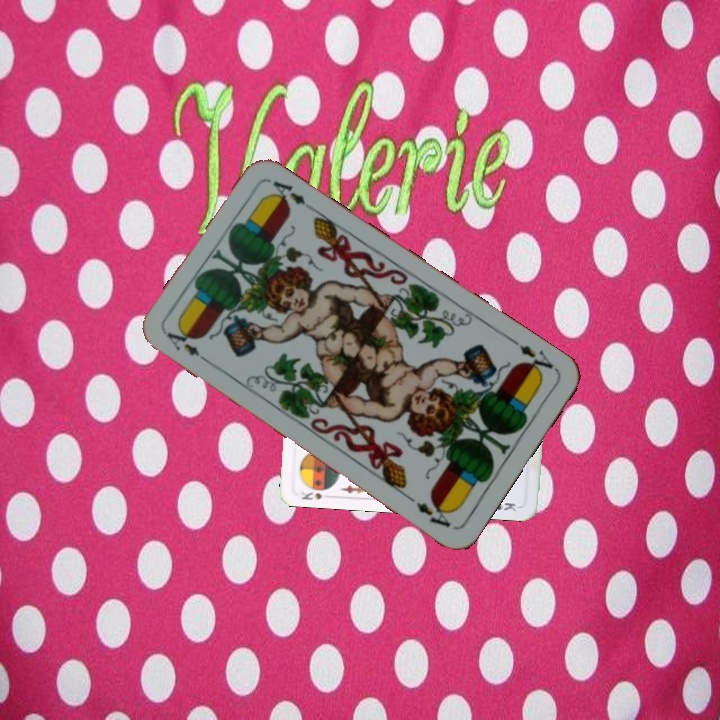EA: (506, 334, 559, 379), (162, 328, 214, 367)
SK: (297, 483, 333, 503)
